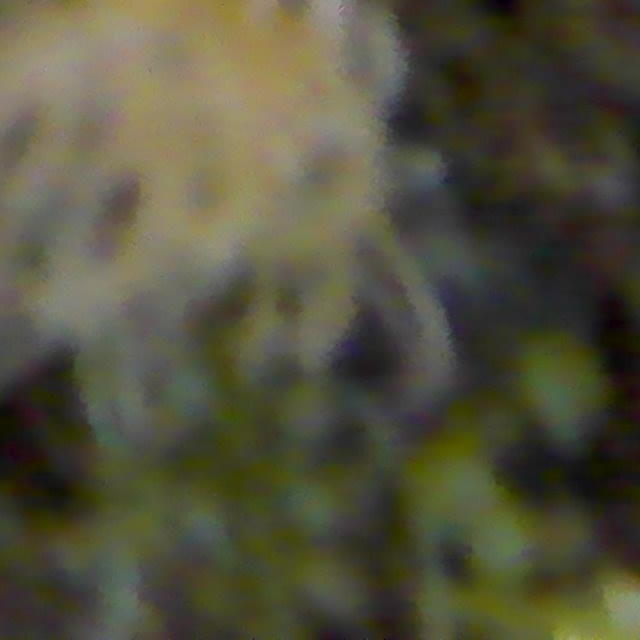SeaGrape: (513, 335, 612, 440), (404, 439, 502, 537), (289, 548, 372, 628), (469, 502, 547, 587)
